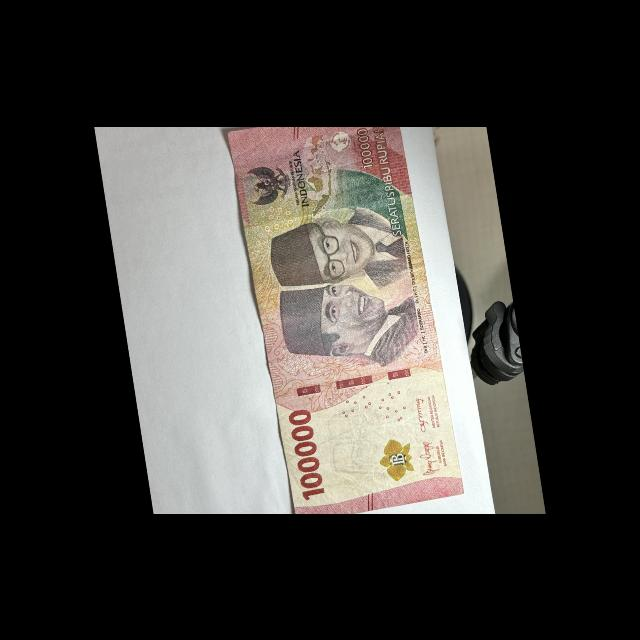Palsu-100k: (223, 96, 468, 526)
Tinta-Palsu-100k: (373, 433, 419, 486)
